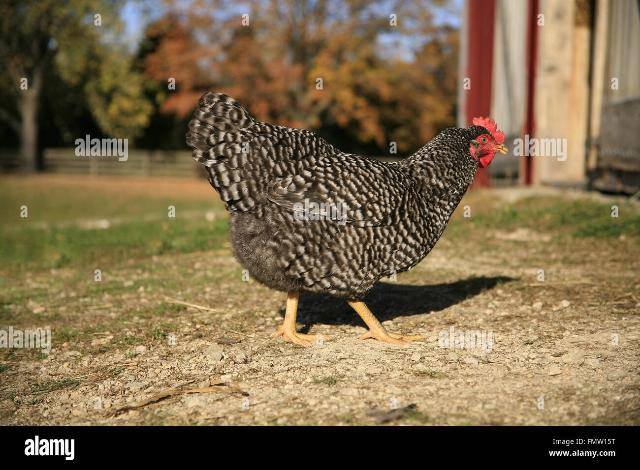Chicken: (186, 92, 509, 343)
